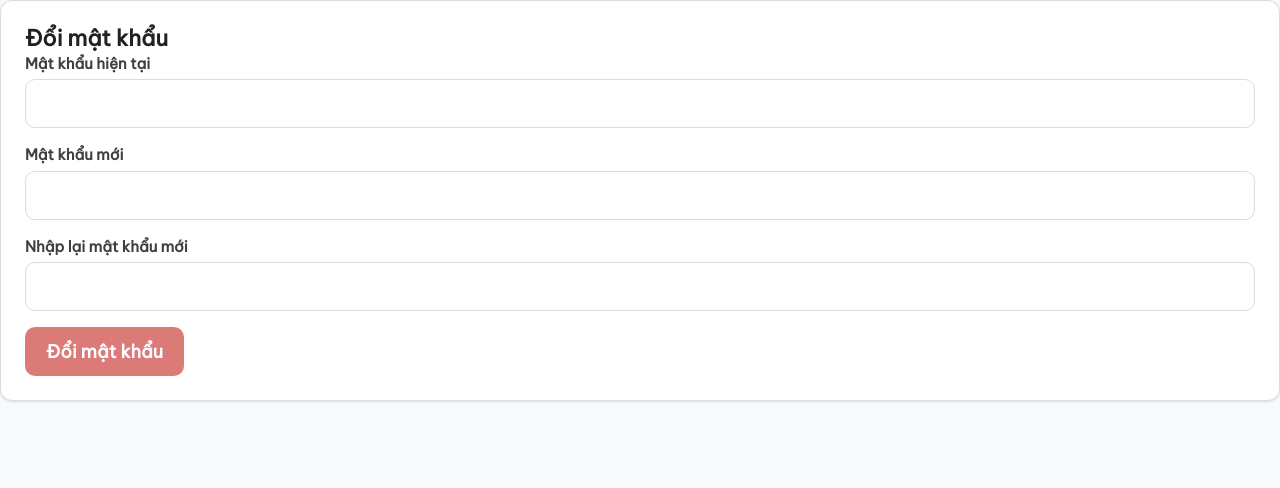
Scenario: Lỗi từ server › trùng mật khẩu cũ → thông điệp RIÊNG, không phải lỗi chung chung
Type "matkhaucu123456" into the password field labelled "Mật khẩu hiện tại". click: x=640, y=104
box: [25,79,1255,128]
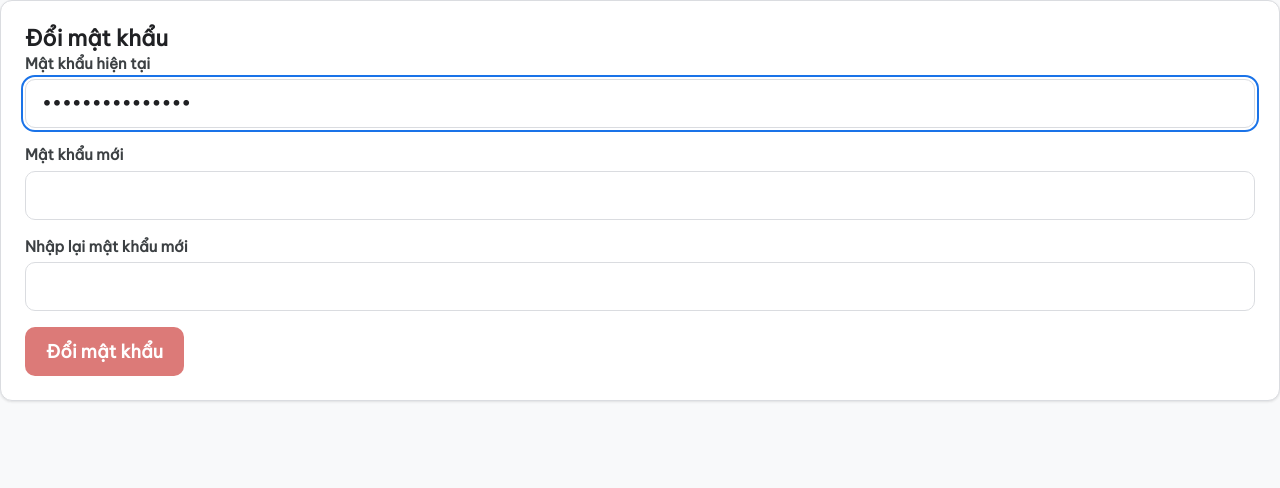
Type "matkhaucu123456" into the password field labelled "Mật khẩu mới". click: x=640, y=195
box: [25,170,1255,220]
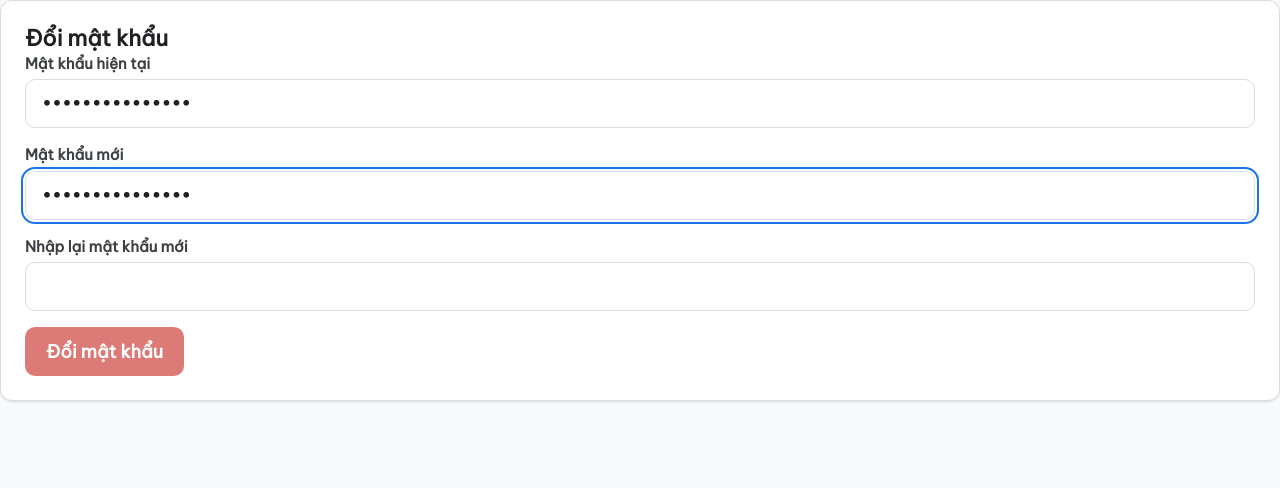
Type "matkhaucu123456" into the password field labelled "Nhập lại mật khẩu mới". click: x=640, y=286
box: [25,262,1255,311]
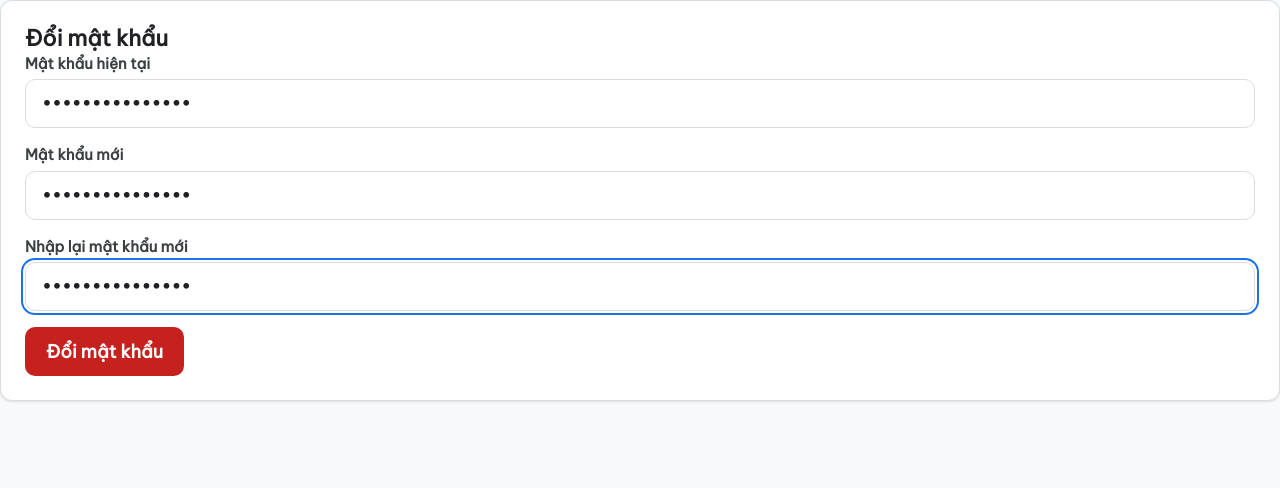
Click the button "Đổi mật khẩu". click: x=104, y=352
box: [25,327,184,376]
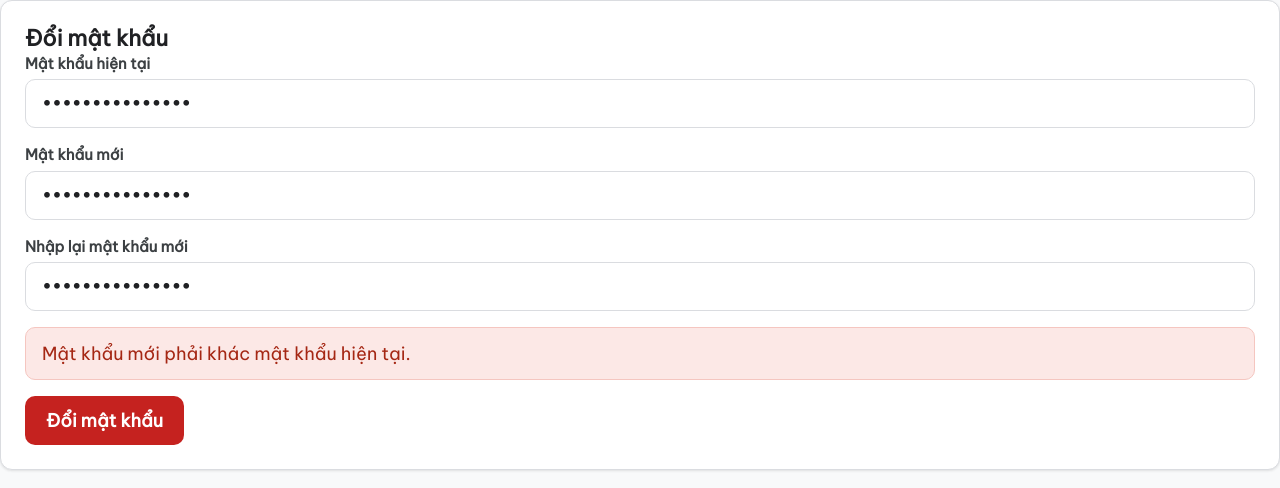
Expected: the text "Mật khẩu mới phải khác mật khẩu hiện tại." is shown, [25,327,1255,380]
